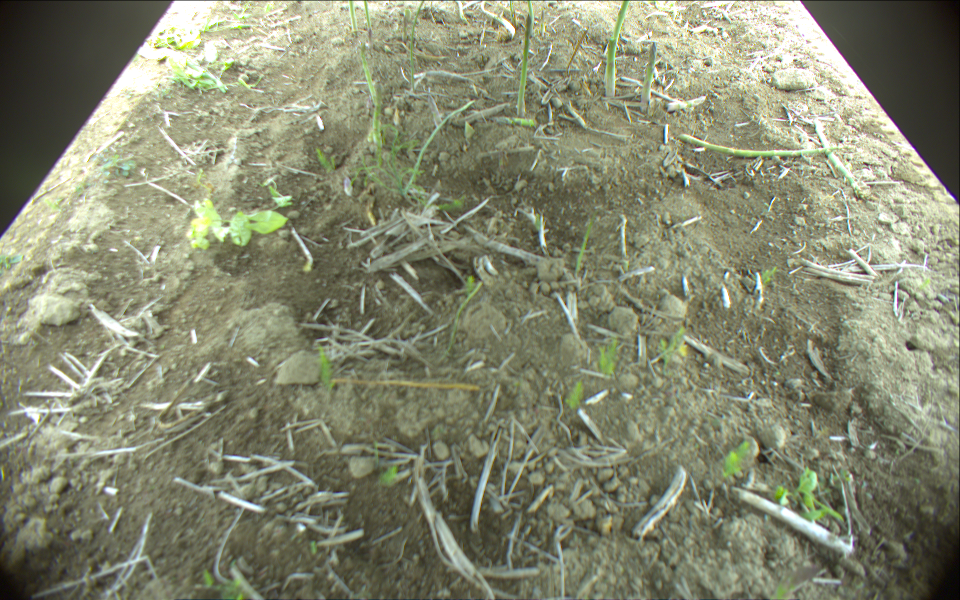aspa: (404, 98, 473, 187), (811, 113, 868, 201), (681, 132, 857, 156), (607, 1, 631, 77), (360, 52, 384, 109), (518, 13, 531, 114), (410, 1, 424, 90), (479, 1, 515, 32), (641, 43, 655, 110), (664, 93, 708, 111), (489, 114, 535, 129), (371, 83, 381, 148), (607, 38, 616, 95), (498, 1, 523, 16), (349, 1, 358, 34), (365, 1, 372, 38), (459, 1, 470, 24), (539, 1, 545, 36), (527, 1, 533, 23), (509, 1, 514, 24)
